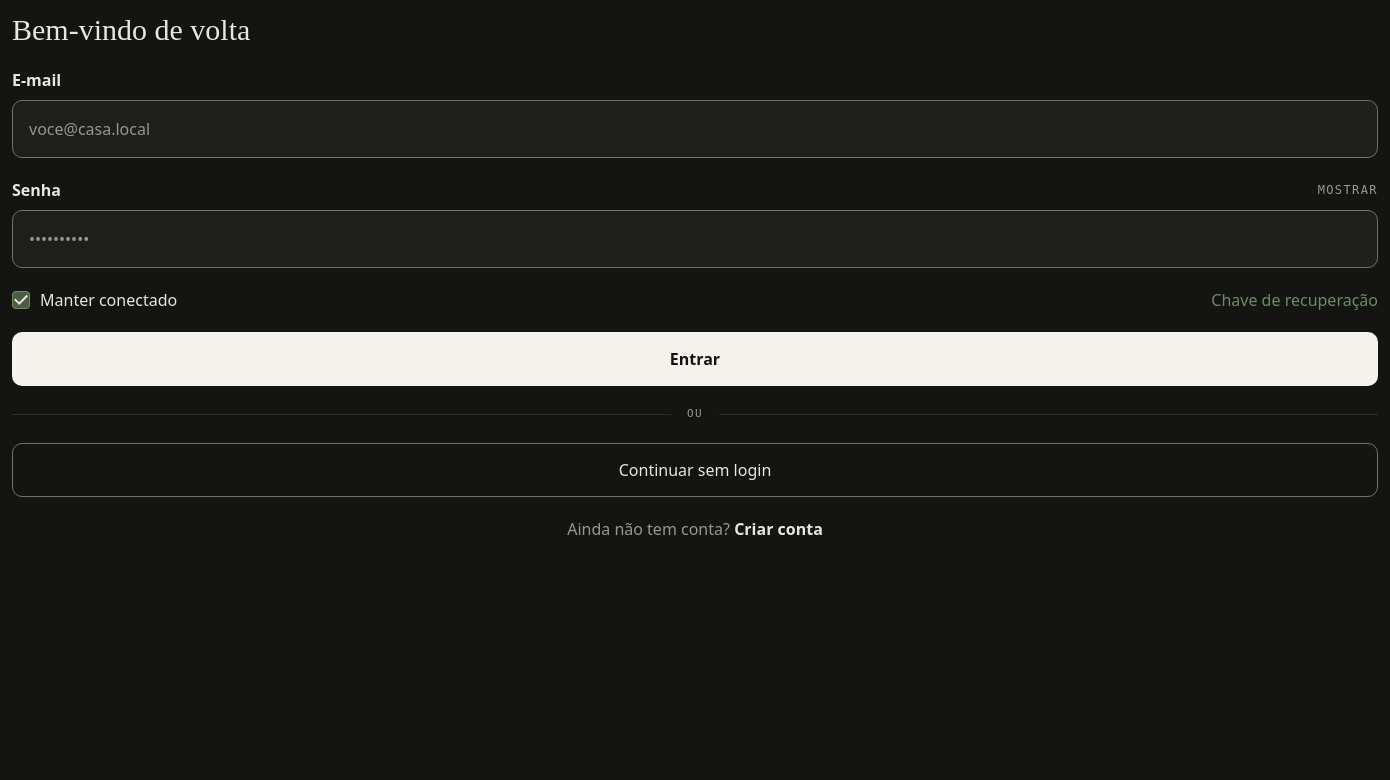
AuthForm — entrar › wrong password says so, keeps the e-mail, and leaves the form usable
The image size is (1390, 780).
Type "ana@casa.local" into the field labelled "E-mail" at (695, 129), box [12, 100, 1378, 158]
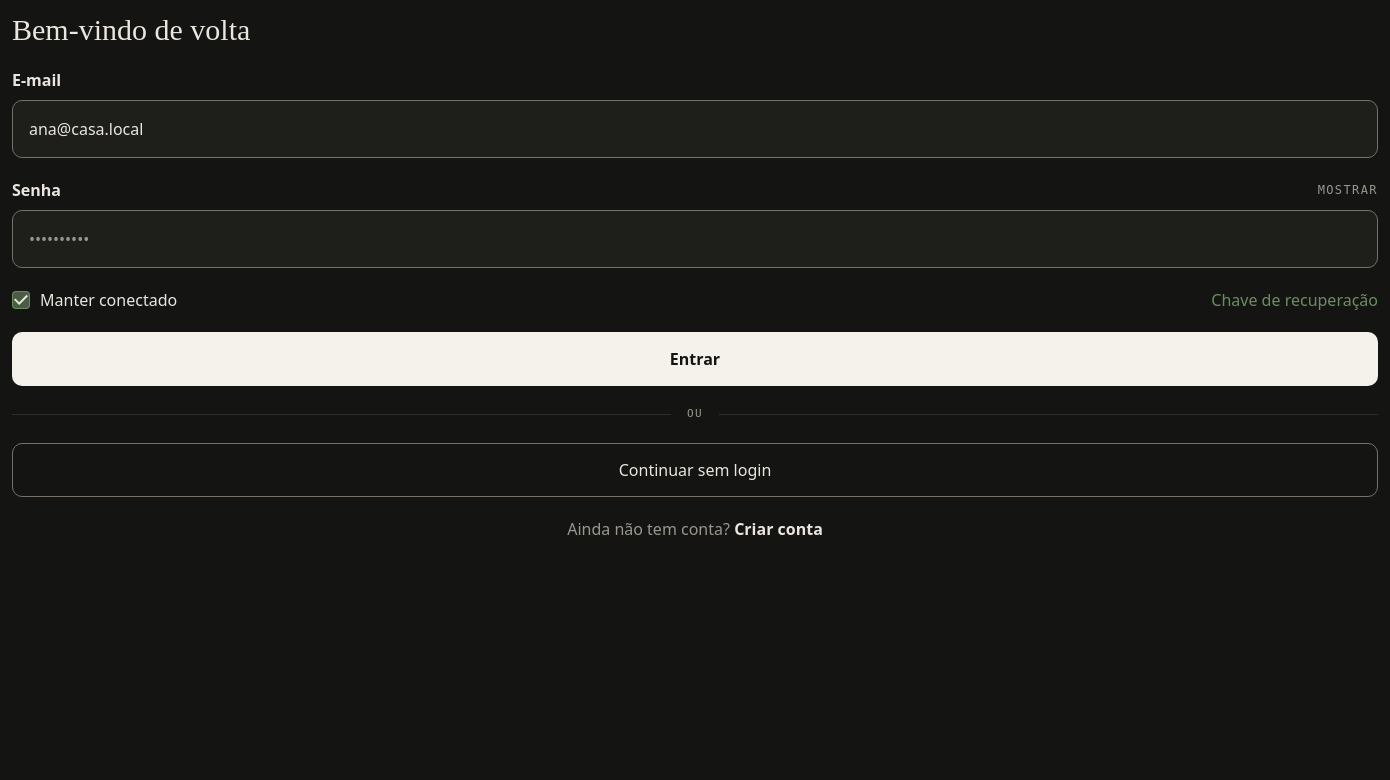
Type "senha-forte-1" into the password field labelled "Senha" at (695, 239), box [12, 210, 1378, 268]
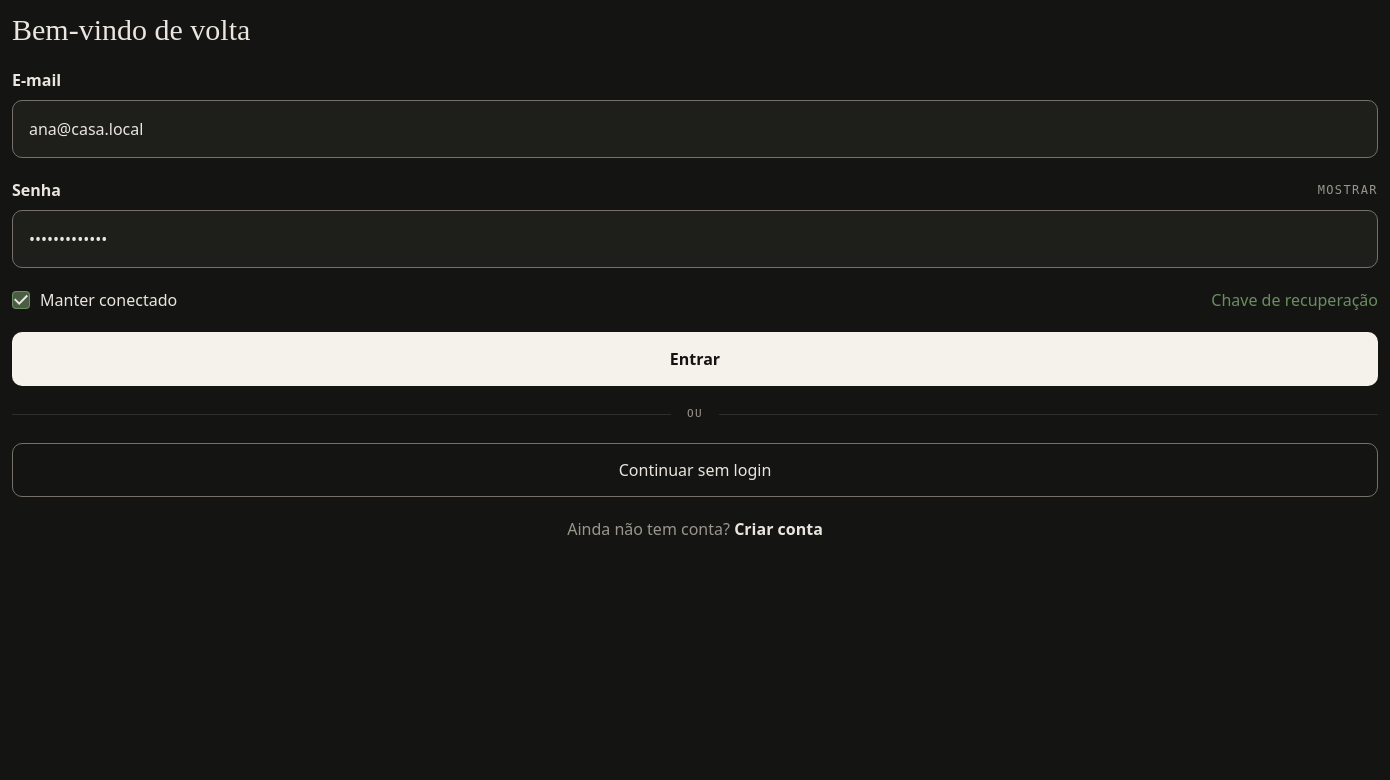
Submit the form labelled "E-mail", box [12, 68, 1378, 386]
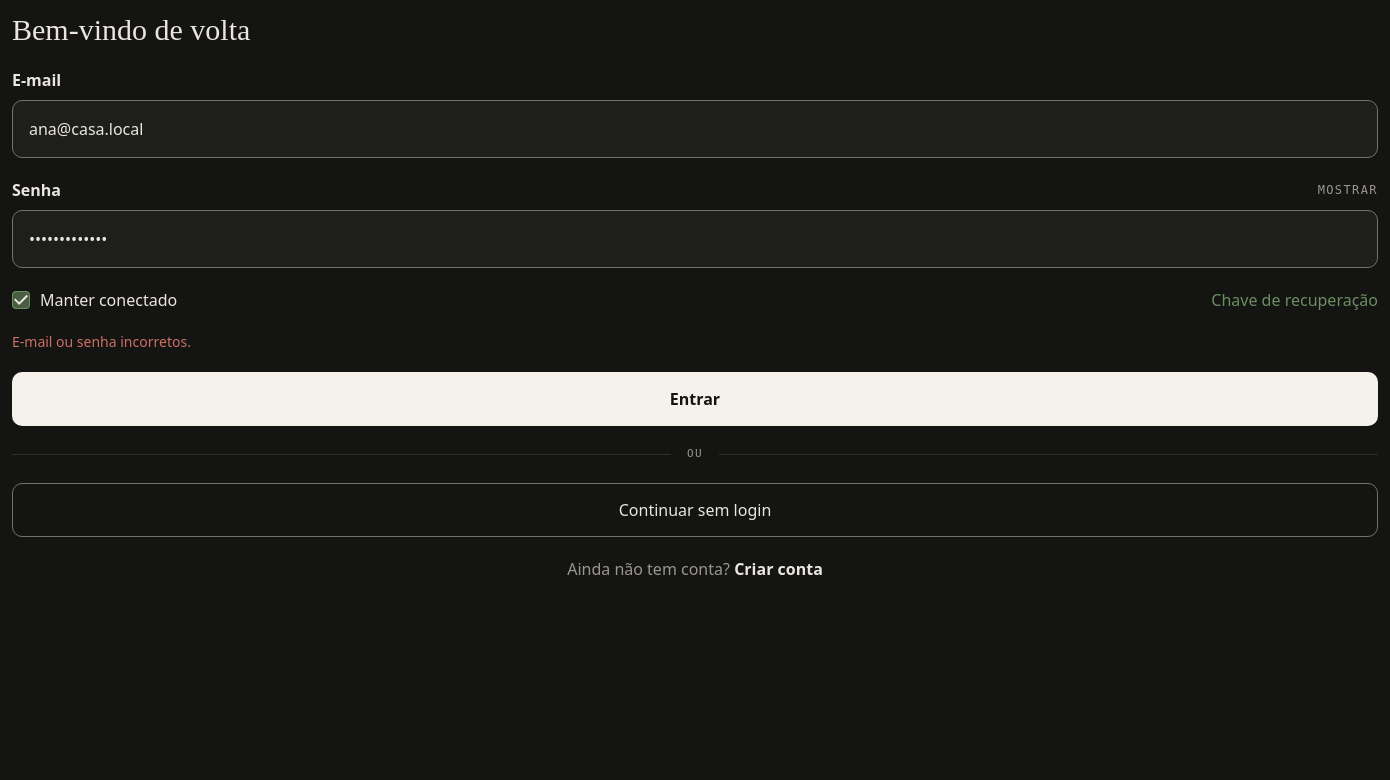
Expected: the button "Entrar" is enabled, [12, 372, 1378, 426]
Result: the message with test id "form-error" reads "E-mail ou senha incorretos." at [12, 332, 191, 351]
